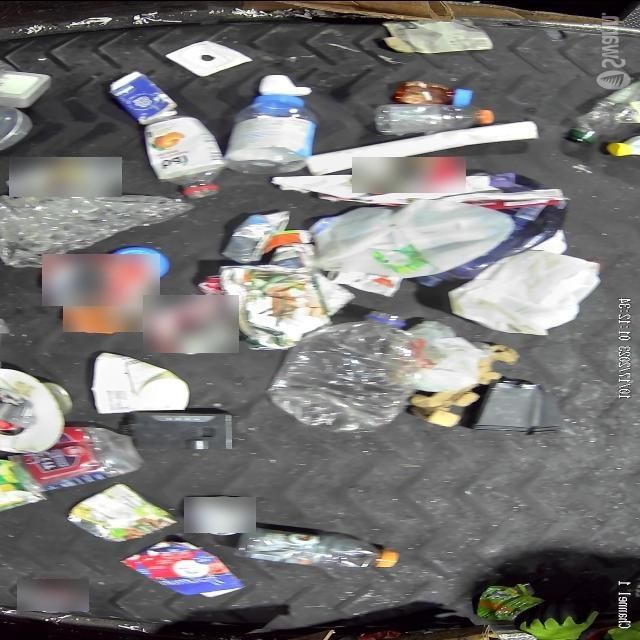milk_jug: (315, 200, 515, 280), (444, 250, 602, 332)
plastic_bottle: (270, 312, 412, 430), (239, 527, 404, 569), (569, 75, 640, 141), (376, 102, 494, 134)
